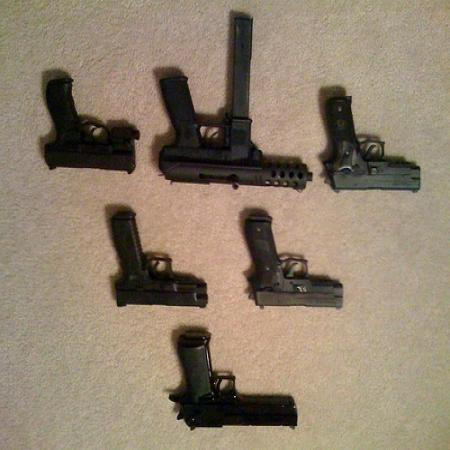Pistol: (168, 334, 300, 434), (44, 75, 140, 178), (108, 214, 210, 310), (245, 216, 344, 313), (323, 98, 421, 195)
